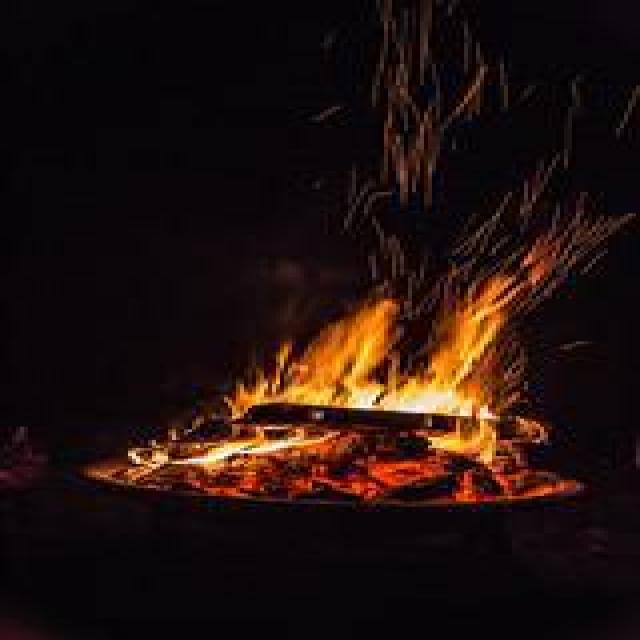fire: (108, 274, 558, 486)
